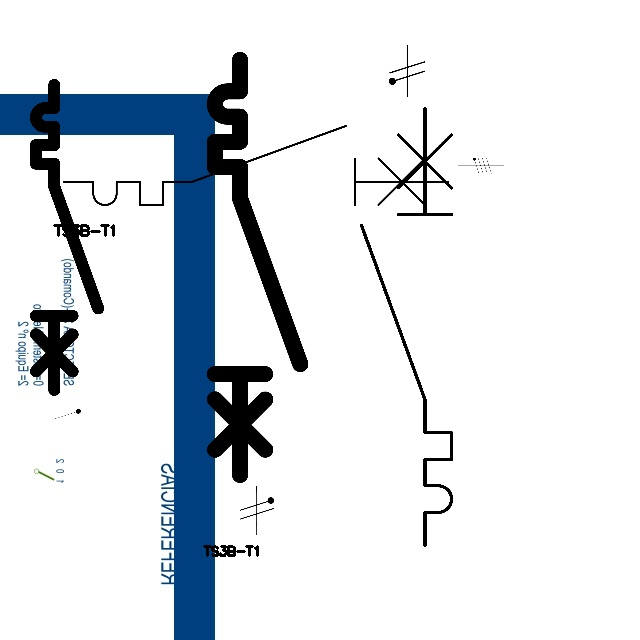interruptor_termomagnetico: (350, 97, 463, 557), (204, 49, 310, 485), (54, 116, 458, 215), (28, 77, 106, 397)
